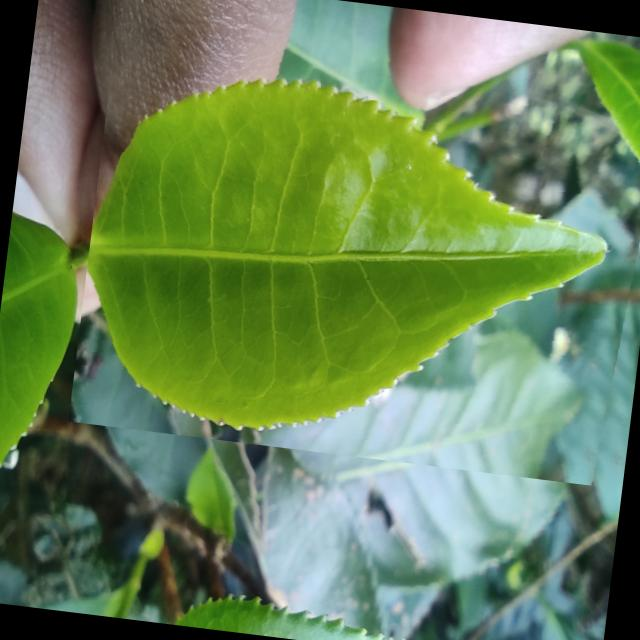Category C(4-7 days): (67, 21, 640, 489)
